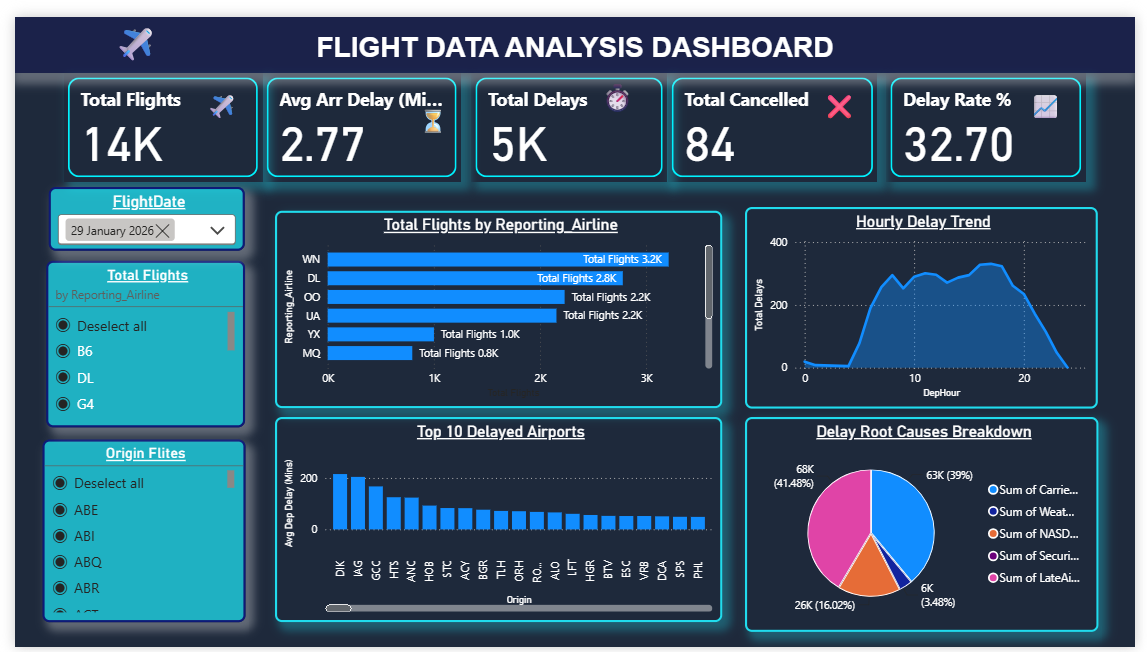

Layout of this report page (visuals, bound fields, positions):
{"tool":"powerbi","page":{"name":"Page 1","canvas":[1280,720],"ordinal":0},"visuals":[{"type":"group","id":"g1","title":"Group 1","box":[55.5,63.9,1167.8,124.3],"z":0},{"type":"cardVisual","fields":{"Data":["cleaned_flight_data.Total Delays"]},"box":[521.2,63.9,224.3,124.3],"z":0,"group":"g1"},{"type":"cardVisual","fields":{"Data":["cleaned_flight_data.Total Cancelled"]},"box":[745.5,63.9,240,124.3],"z":1000,"group":"g1"},{"type":"listSlicer","title":"Origin Flites","fields":{"Values":["cleaned_flight_data.Origin"]},"box":[31.4,482.9,231.6,208.7],"z":1000},{"type":"cardVisual","fields":{"Data":["cleaned_flight_data.Delay Rate %"]},"box":[995.5,63.9,228.6,124.3],"z":2000,"group":"g1"},{"type":"listSlicer","fields":{"Values":["cleaned_flight_data.Reporting_Airline"]},"box":[35.7,278.6,227.1,190],"z":2000},{"type":"cardVisual","fields":{"Data":["cleaned_flight_data.Avg Arr Delay (Mins)"]},"box":[282.6,63.9,227.1,124.3],"z":3000,"group":"g1"},{"type":"clusteredBarChart","fields":{"Category":["cleaned_flight_data.Reporting_Airline"],"Y":["cleaned_flight_data.Total Flights"]},"box":[297.1,221.4,511.4,225.7],"z":3000},{"type":"stackedAreaChart","title":"Hourly Delay Trend","fields":{"Category":["cleaned_flight_data.DepHour"],"Y":["cleaned_flight_data.Total Delays"]},"box":[834.3,217.1,402.9,230],"z":3001},{"type":"pieChart","title":"Delay Root Causes Breakdown","fields":{"Y":["Sum(cleaned_flight_data.CarrierDelay)","Sum(cleaned_flight_data.WeatherDelay)","Sum(cleaned_flight_data.NASDelay)","Sum(cleaned_flight_data.SecurityDelay)","Sum(cleaned_flight_data.LateAircraftDelay)"]},"box":[834.3,457.1,404.3,245.7],"z":3002},{"type":"columnChart","title":"Top 10 Delayed Airports","fields":{"Category":["cleaned_flight_data.Origin"],"Y":["cleaned_flight_data.Avg Dep Delay (Mins)"]},"box":[297.1,457.1,511.4,234.3],"z":3003},{"type":"listSlicer","fields":{"Values":["cleaned_flight_data.FlightDate"]},"box":[38.6,194.3,224.3,72.9],"z":3004},{"type":"textbox","box":[0,0,1280,64.3],"z":3005},{"type":"textbox","box":[107.1,0,88.6,64.3],"z":3006},{"type":"cardVisual","fields":{"Data":["cleaned_flight_data.Total Flights"]},"box":[55.5,63.9,227.1,124.3],"z":4000,"group":"g1"},{"type":"textbox","box":[212.6,78.2,50,48.6],"z":5000,"group":"g1"},{"type":"textbox","box":[661.2,63.9,64.3,62.9],"z":6000,"group":"g1"},{"type":"textbox","box":[918.4,78.2,54.3,48.6],"z":7000,"group":"g1"},{"type":"textbox","box":[1154.1,78.2,60,62.9],"z":8000,"group":"g1"},{"type":"textbox","box":[454,95,43.4,45.8],"z":9000,"group":"g1"}]}

Visuals, with their boxes in screenshot pixels (x1, y1, x2, y2), scaled from the page's 1280x720 canvas onto the 1147x652 screenshot:
"Group 1" group: bbox=(50, 58, 1096, 170)
cardVisual - cleaned_flight_data.Total Delays: bbox=(467, 58, 668, 170)
cardVisual - cleaned_flight_data.Total Cancelled: bbox=(668, 58, 883, 170)
"Origin Flites" listSlicer: bbox=(28, 437, 236, 626)
cardVisual - cleaned_flight_data.Delay Rate %: bbox=(892, 58, 1097, 170)
listSlicer - cleaned_flight_data.Reporting_Airline: bbox=(32, 252, 235, 424)
cardVisual - cleaned_flight_data.Avg Arr Delay (Mins): bbox=(253, 58, 457, 170)
clusteredBarChart - cleaned_flight_data.Reporting_Airline x cleaned_flight_data.Total Flights: bbox=(266, 200, 724, 405)
"Hourly Delay Trend" stackedAreaChart: bbox=(748, 197, 1109, 405)
"Delay Root Causes Breakdown" pieChart: bbox=(748, 414, 1110, 636)
"Top 10 Delayed Airports" columnChart: bbox=(266, 414, 724, 626)
listSlicer - cleaned_flight_data.FlightDate: bbox=(35, 176, 236, 242)
textbox: bbox=(0, 0, 1146, 58)
textbox: bbox=(96, 0, 175, 58)
cardVisual - cleaned_flight_data.Total Flights: bbox=(50, 58, 253, 170)
textbox: bbox=(191, 71, 235, 115)
textbox: bbox=(592, 58, 650, 115)
textbox: bbox=(823, 71, 872, 115)
textbox: bbox=(1034, 71, 1088, 128)
textbox: bbox=(407, 86, 446, 128)
